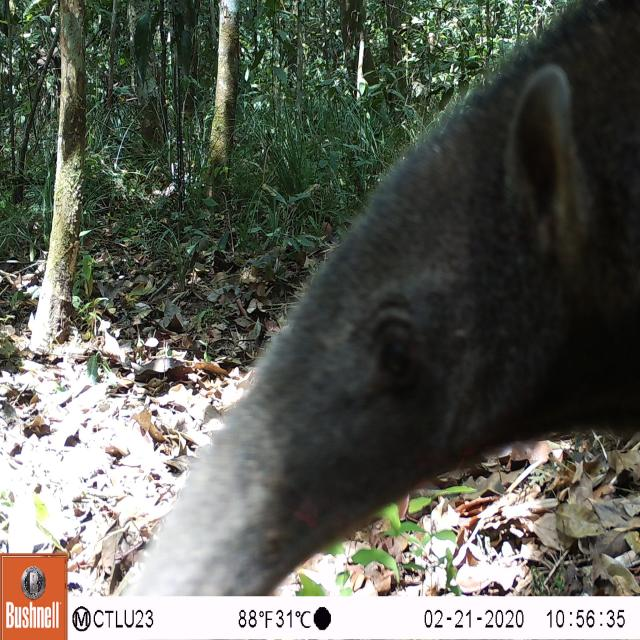Giant Anteater: (148, 18, 635, 587)
